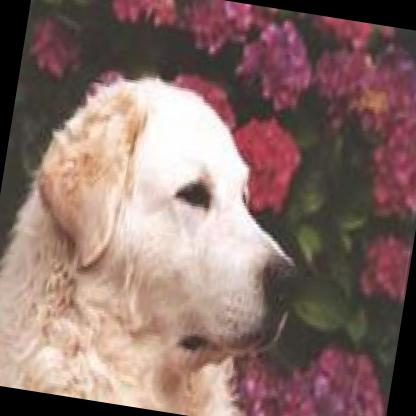kuvasz: (0, 48, 327, 416)
